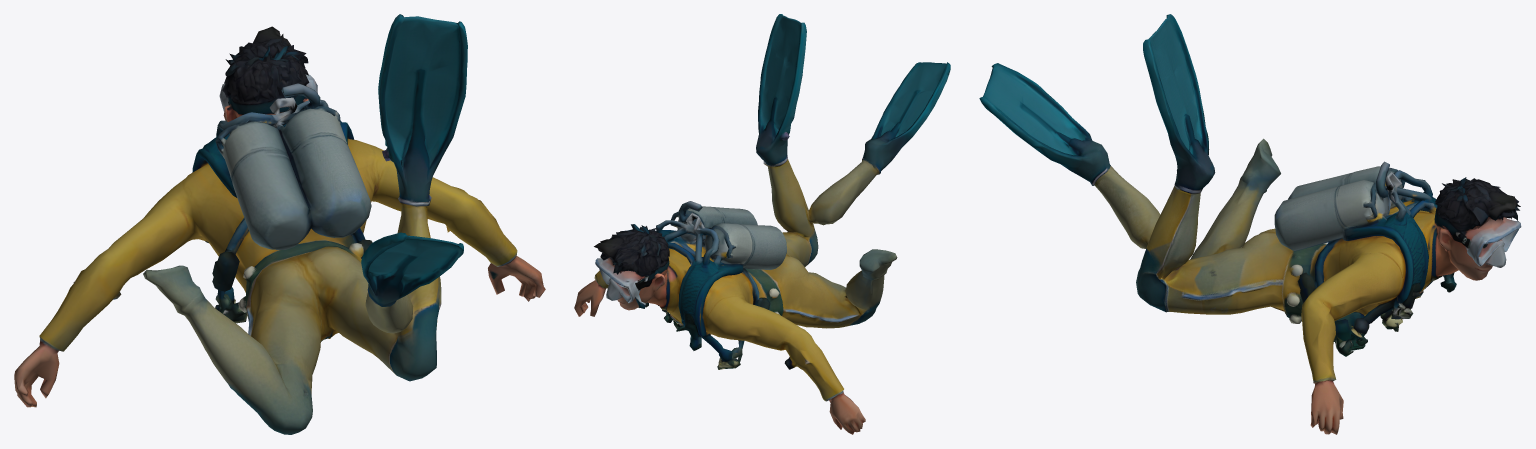
File: diver.glb
The picture shows the model from 3 angles, left to right: view 1: azimuth 30°, elevation 25°; view 2: azimuth 150°, elevation 25°; view 3: azimuth 270°, elevation 25°; orthographic projection. The views are drawn at different scales.
Visible parts, largest first — view 1: tripo_node_e090f8b3-4dd8-4946-b3ab-6e9a57744f8f; view 2: tripo_node_e090f8b3-4dd8-4946-b3ab-6e9a57744f8f; view 3: tripo_node_e090f8b3-4dd8-4946-b3ab-6e9a57744f8f.
Boxes of the visible parts, x1=… form: tripo_node_e090f8b3-4dd8-4946-b3ab-6e9a57744f8f: x1=14, y1=14, x2=545, y2=434; tripo_node_e090f8b3-4dd8-4946-b3ab-6e9a57744f8f: x1=574, y1=14, x2=950, y2=434; tripo_node_e090f8b3-4dd8-4946-b3ab-6e9a57744f8f: x1=979, y1=14, x2=1521, y2=434.
Bounding box in the file's own units: 0.8091 × 0.7307 × 1.
1 material, 1 textured.
